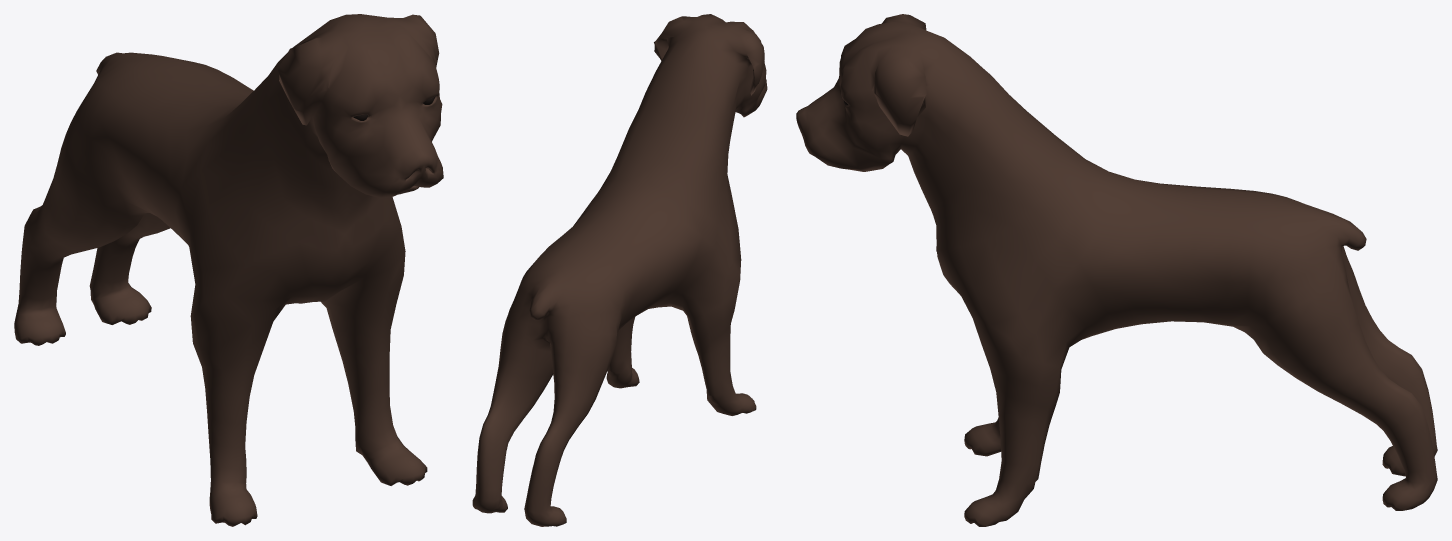
3 views of the same model, side by side, from view 1: azimuth 30°, elevation 25°; view 2: azimuth 150°, elevation 25°; view 3: azimuth 270°, elevation 25° (orthographic). The views are drawn at different scales.
Visible parts, largest first — view 1: dog; view 2: dog; view 3: dog.
Part boxes in pixels (left/top/right/bottom): dog: left=14, top=14, right=443, bottom=526; dog: left=472, top=14, right=767, bottom=526; dog: left=796, top=14, right=1437, bottom=526.
Bounding box in the file's own units: 0.1659 × 0.3817 × 0.4898.
